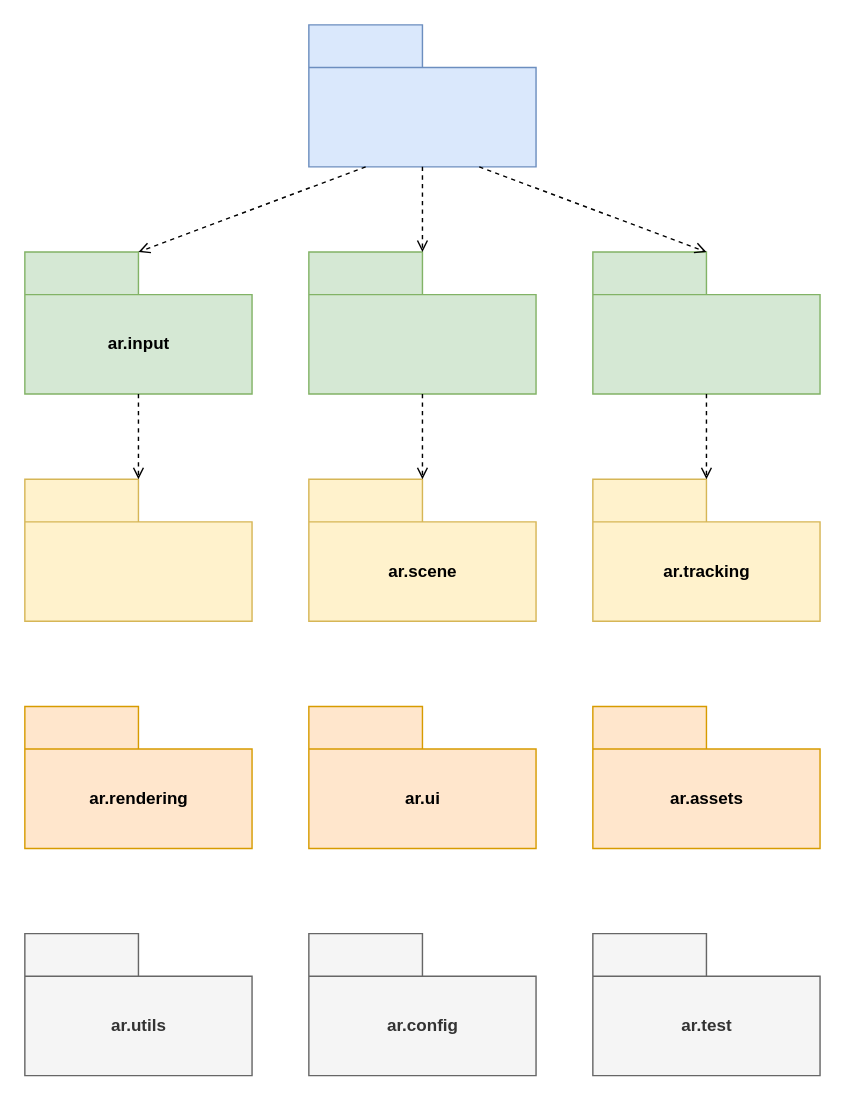
Image size: 845x1101. Some labels were removed from this diagram. Here are the shapes that lost their labels. From the top down, the centre of each, then its label:
At (x=421, y=95): "ar.core".
At (x=421, y=322): "ar.camera".
At (x=705, y=322): "ar.sensor".
At (x=137, y=549): "ar.detection".
